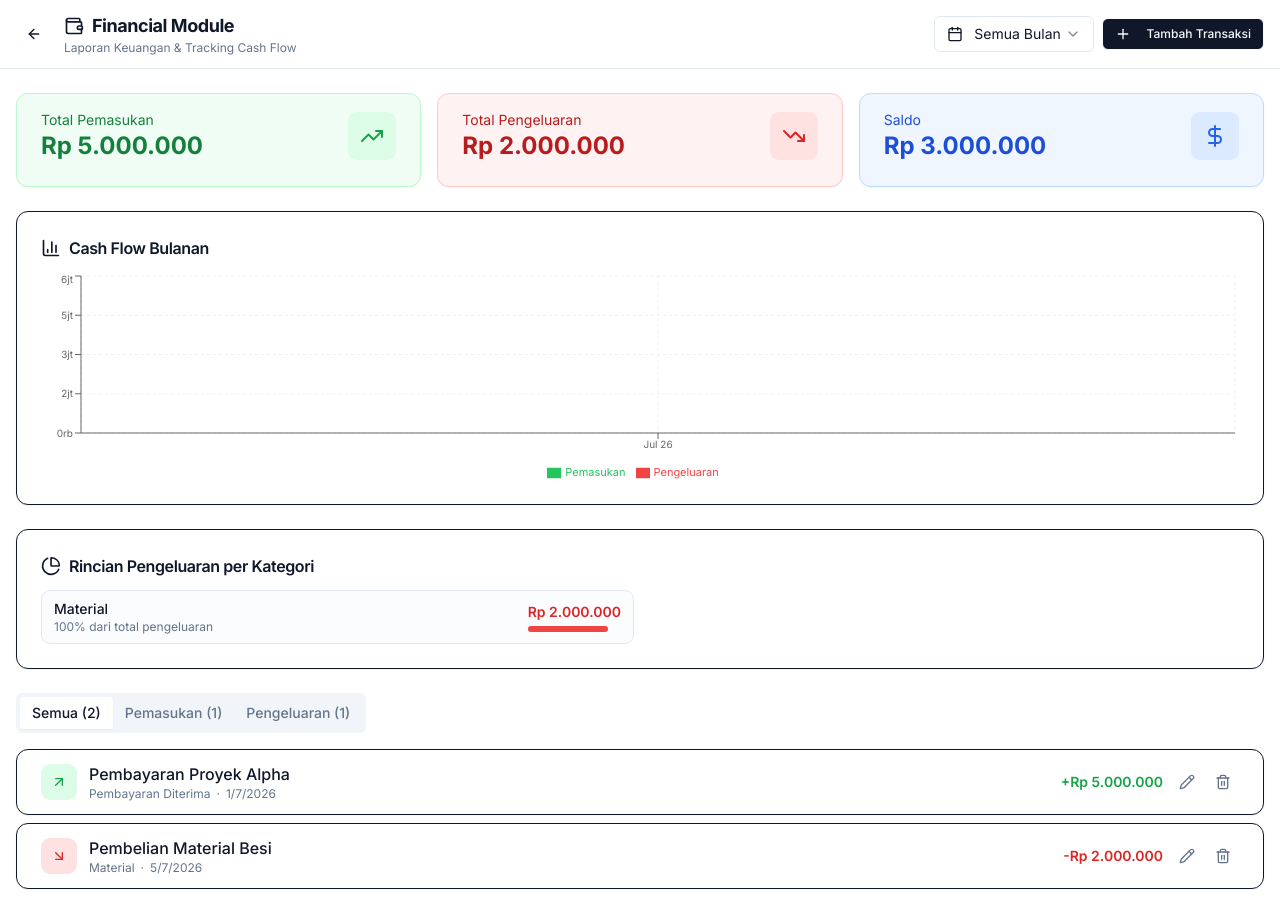
Test: FinancialModule – edit transaction › opens the edit dialog when the pencil button is clicked
What coordinates should you click on to do the following:
click the 3rd button
I would click on:
 (1187, 782)
Its box is [1171,766,1203,798].
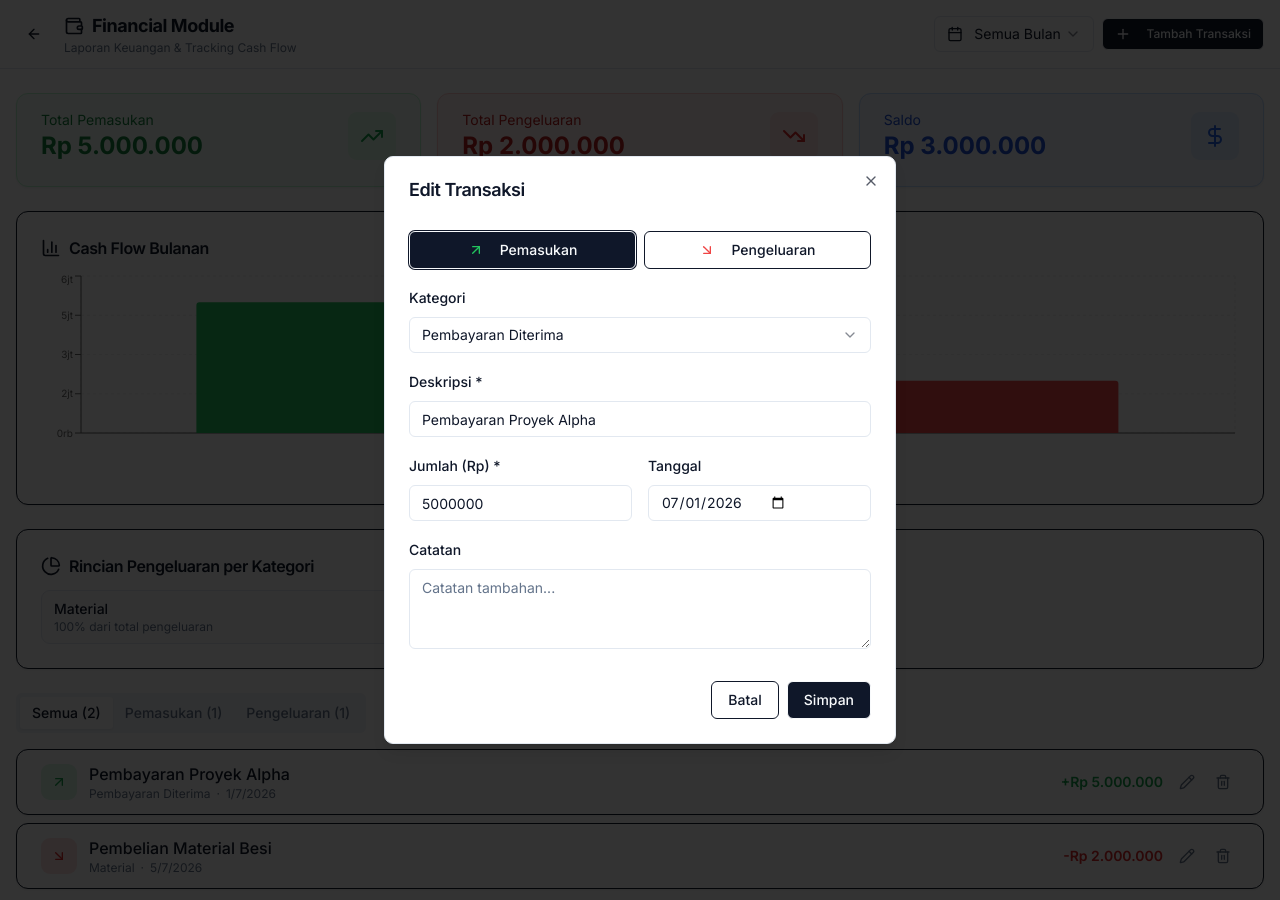
Result: the heading "Edit Transaksi" is shown at [409,179,525,200]
